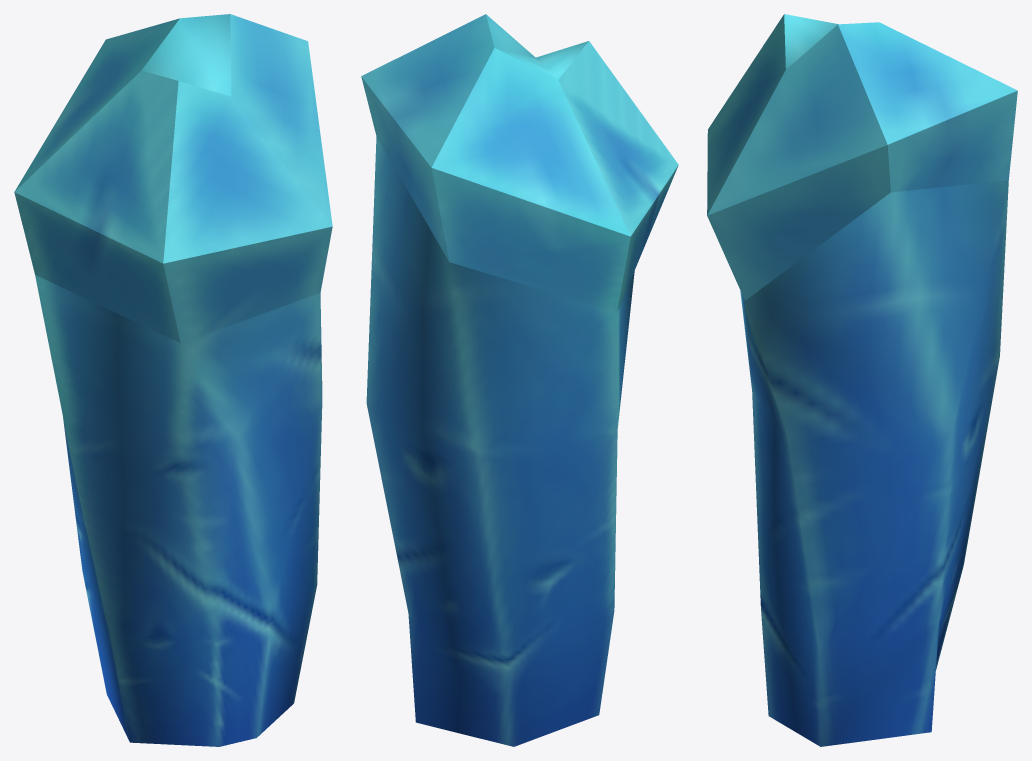
The model's file is clystal_3.fbx.
3 views of the same model, side by side, from view 1: azimuth 30°, elevation 25°; view 2: azimuth 150°, elevation 25°; view 3: azimuth 270°, elevation 25° (orthographic). The views are drawn at different scales.
Visible parts, largest first — view 1: clystal_3; view 2: clystal_3; view 3: clystal_3.
Boxes of the visible parts, left/top/right/bottom form: clystal_3: left=14, top=14, right=332, bottom=746; clystal_3: left=361, top=14, right=678, bottom=746; clystal_3: left=707, top=14, right=1017, bottom=746.
Size of the model in its own units: 0.4465 by 1.04 by 0.4224.
